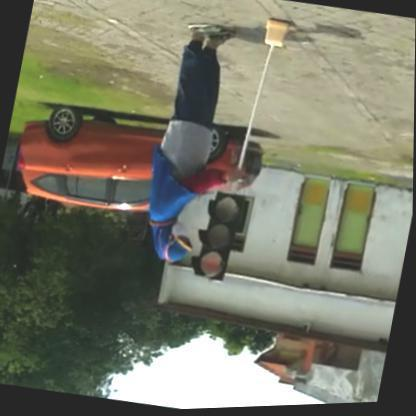red: (189, 188, 246, 284)
